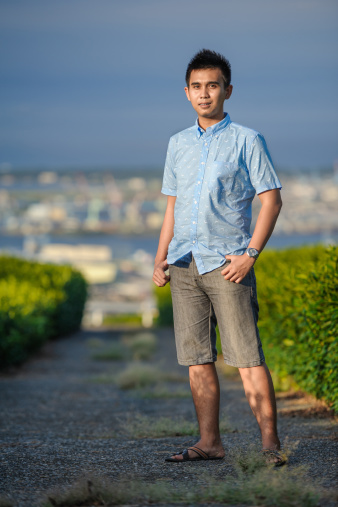em pe: (142, 54, 295, 464)
